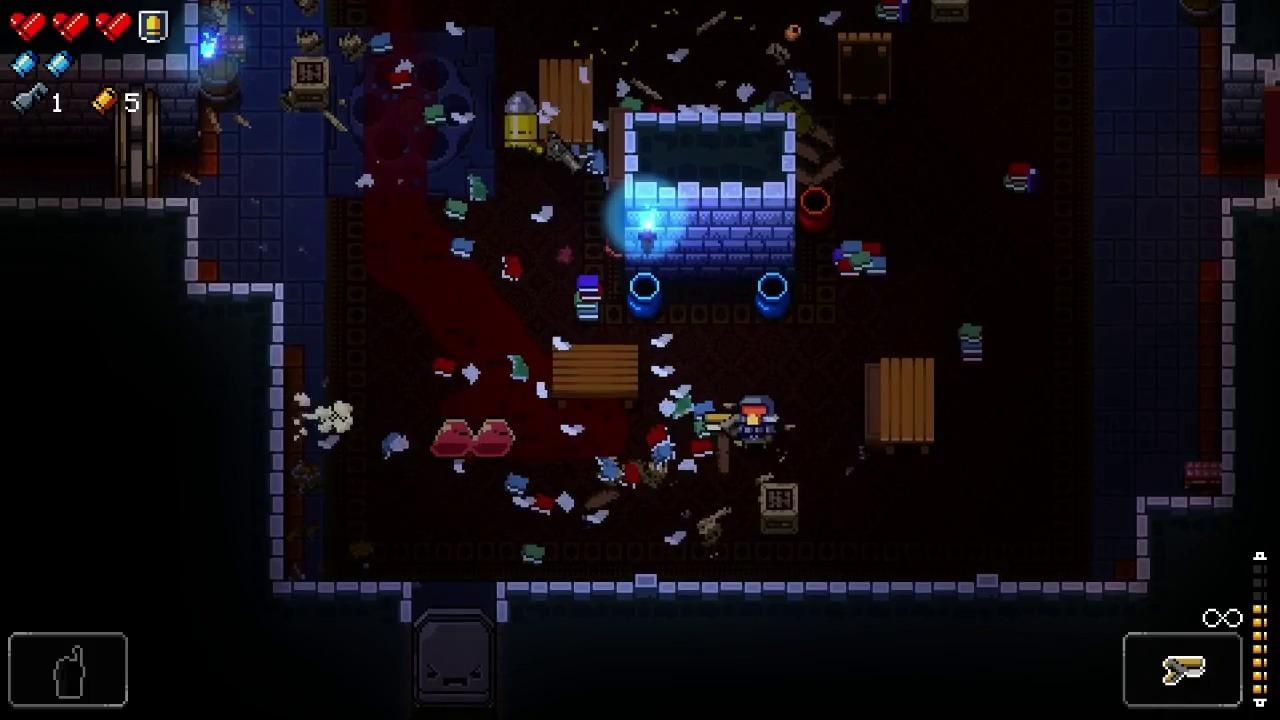blobuloid_m: (472, 420, 516, 459), (430, 420, 474, 458)
bullet_kin: (504, 91, 539, 148)
locked_door: (415, 608, 497, 710), (117, 85, 160, 199)
player: (738, 395, 780, 448)
table: (553, 344, 638, 410), (538, 59, 593, 152), (882, 360, 934, 454), (837, 32, 893, 105)
teleporter: (331, 27, 495, 202)
